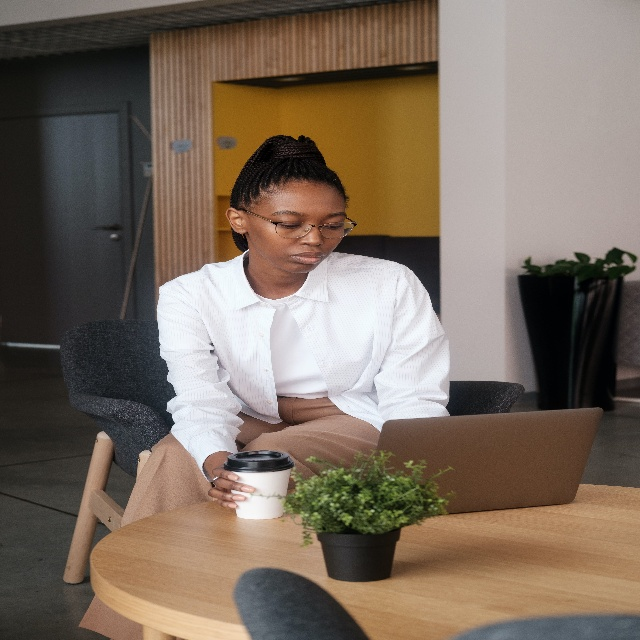Gafas: (238, 206, 358, 240)
Sin_guantes: (207, 465, 256, 508)
